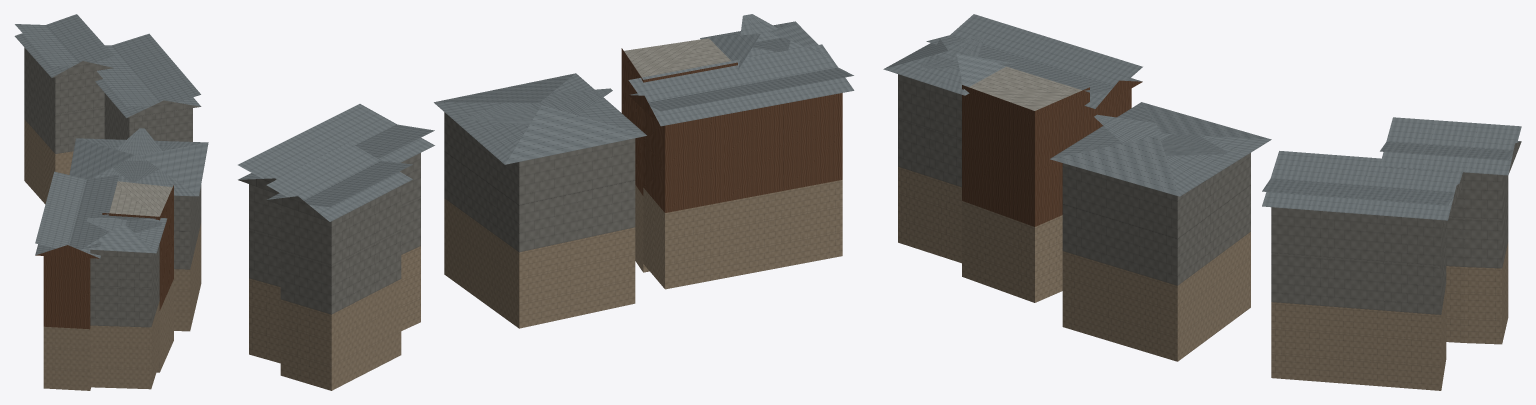
Rendered from bld_c38_-12_539.gltf.
3 views of the same model, side by side, from view 1: azimuth 30°, elevation 25°; view 2: azimuth 150°, elevation 25°; view 3: azimuth 270°, elevation 25° (orthographic). The views are drawn at different scales.
Visible parts, largest first — view 1: bld_c38_-12_539; view 2: bld_c38_-12_539; view 3: bld_c38_-12_539.
Boxes of the visible parts, left/top/right/bottom form: bld_c38_-12_539: left=14, top=14, right=208, bottom=390; bld_c38_-12_539: left=238, top=14, right=854, bottom=390; bld_c38_-12_539: left=883, top=14, right=1521, bottom=390.
Bounding box in the file's own units: 26.52 × 14 × 38.84.
7 materials, 7 textured.
